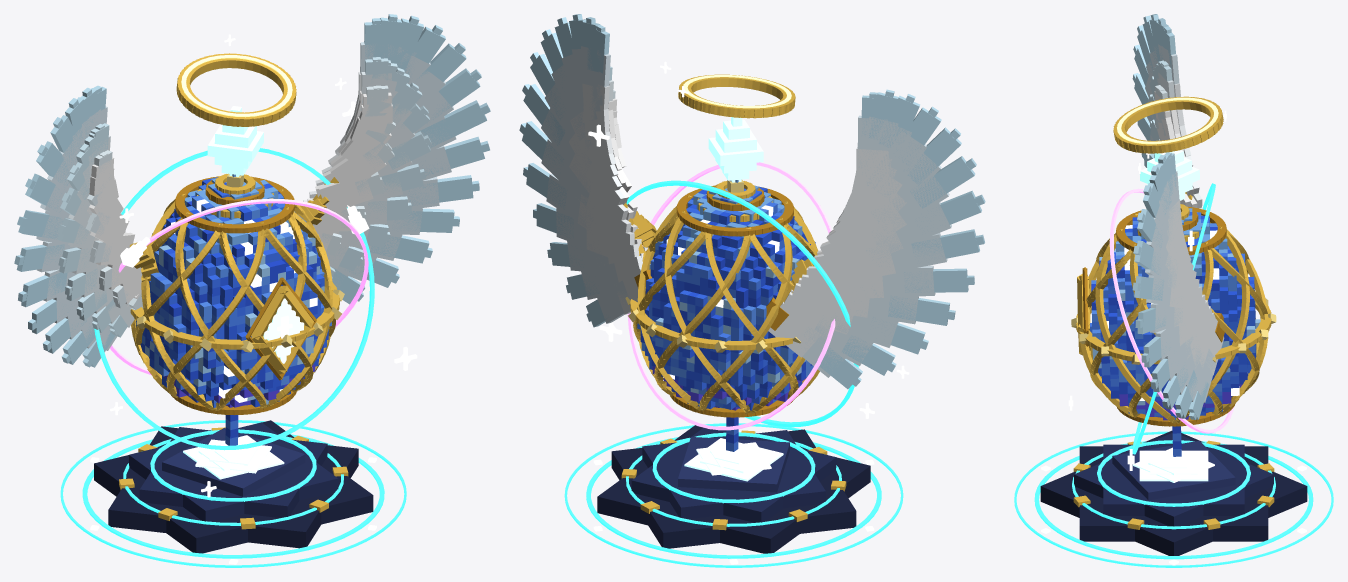
File: egg_celestial.glb
3 views of the same model, side by side, from view 1: azimuth 30°, elevation 25°; view 2: azimuth 150°, elevation 25°; view 3: azimuth 270°, elevation 25° (orthographic). The views are drawn at different scales.
Parts seen in each view (by area): view 1: wing_L_geo, root_geo, wing_R_geo, shell_geo, cage_geo, floor_rings_geo, halo_geo, orbit1_geo, emblem_geo, orbit2_geo, topgem_geo; view 2: wing_R_geo, wing_L_geo, root_geo, shell_geo, cage_geo, floor_rings_geo, halo_geo, orbit2_geo, topgem_geo, orbit1_geo; view 3: root_geo, wing_L_geo, cage_geo, shell_geo, wing_R_geo, floor_rings_geo, halo_geo, orbit2_geo, topgem_geo, emblem_geo, orbit1_geo.
Boxes of the visible parts, left/top/right/bottom form: wing_L_geo: left=300, top=14, right=490, bottom=304; root_geo: left=94, top=420, right=373, bottom=553; wing_R_geo: left=14, top=85, right=158, bottom=367; shell_geo: left=136, top=174, right=331, bottom=445; cage_geo: left=130, top=173, right=344, bottom=415; floor_rings_geo: left=60, top=420, right=406, bottom=567; halo_geo: left=176, top=53, right=296, bottom=126; orbit1_geo: left=94, top=148, right=374, bottom=450; emblem_geo: left=245, top=277, right=316, bottom=380; orbit2_geo: left=110, top=198, right=368, bottom=375; topgem_geo: left=207, top=106, right=263, bottom=176; wing_R_geo: left=766, top=89, right=985, bottom=389; wing_L_geo: left=519, top=14, right=656, bottom=327; root_geo: left=597, top=425, right=870, bottom=553; shell_geo: left=637, top=180, right=815, bottom=451; cage_geo: left=625, top=180, right=819, bottom=417; floor_rings_geo: left=564, top=423, right=903, bottom=567; halo_geo: left=678, top=74, right=795, bottom=118; orbit2_geo: left=627, top=162, right=835, bottom=430; topgem_geo: left=708, top=117, right=763, bottom=182; orbit1_geo: left=626, top=180, right=858, bottom=427; root_geo: left=1040, top=430, right=1307, bottom=555; wing_L_geo: left=1132, top=152, right=1224, bottom=419; cage_geo: left=1071, top=204, right=1276, bottom=426; shell_geo: left=1090, top=208, right=1260, bottom=456; wing_R_geo: left=1132, top=14, right=1203, bottom=209; floor_rings_geo: left=1014, top=431, right=1333, bottom=567; halo_geo: left=1113, top=96, right=1223, bottom=153; orbit2_geo: left=1109, top=188, right=1234, bottom=433; topgem_geo: left=1140, top=150, right=1199, bottom=200; emblem_geo: left=1077, top=267, right=1090, bottom=355; orbit1_geo: left=1132, top=183, right=1215, bottom=454.
Bounding box in the file's own units: 11.81 × 10.66 × 7.45.
